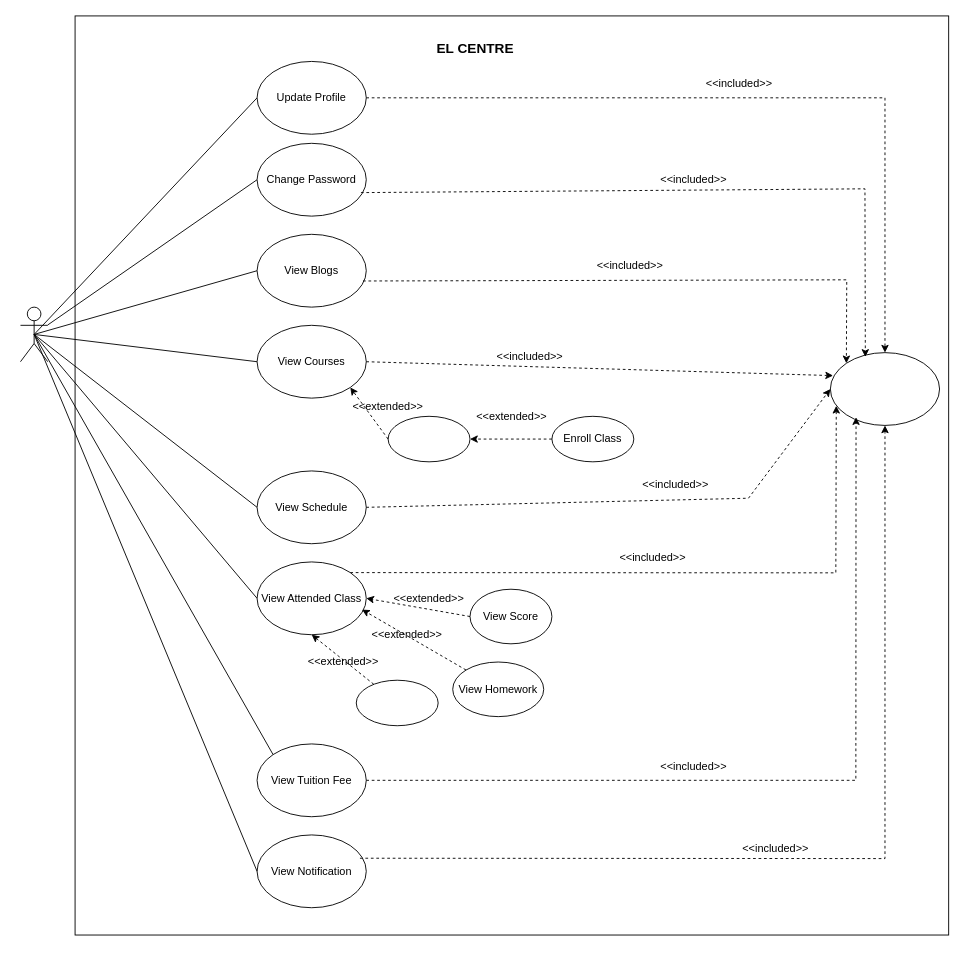
Some shapes in this 965 by 958 pixel diagram are drawn without their labels. Here are the shapes that lost their labels. From the top down, the centre of each, then its label:
[34,334]: Student
[884,388]: Login
[428,438]: View Class
[396,702]: View Attendance
